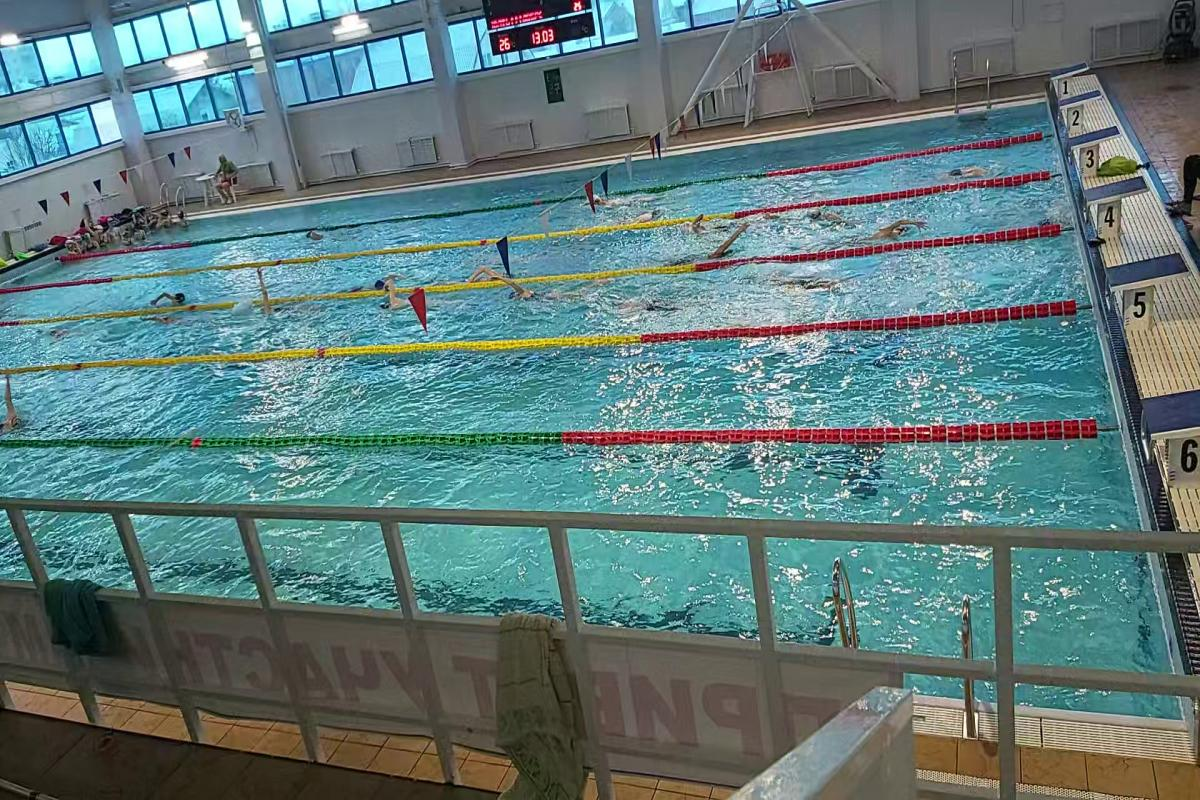swimmer: (503, 276, 603, 308), (693, 223, 753, 260), (856, 216, 936, 243), (1, 372, 37, 429), (802, 197, 856, 227), (931, 160, 1008, 181), (595, 190, 668, 208), (148, 284, 196, 304), (367, 265, 409, 286), (378, 292, 406, 317)
